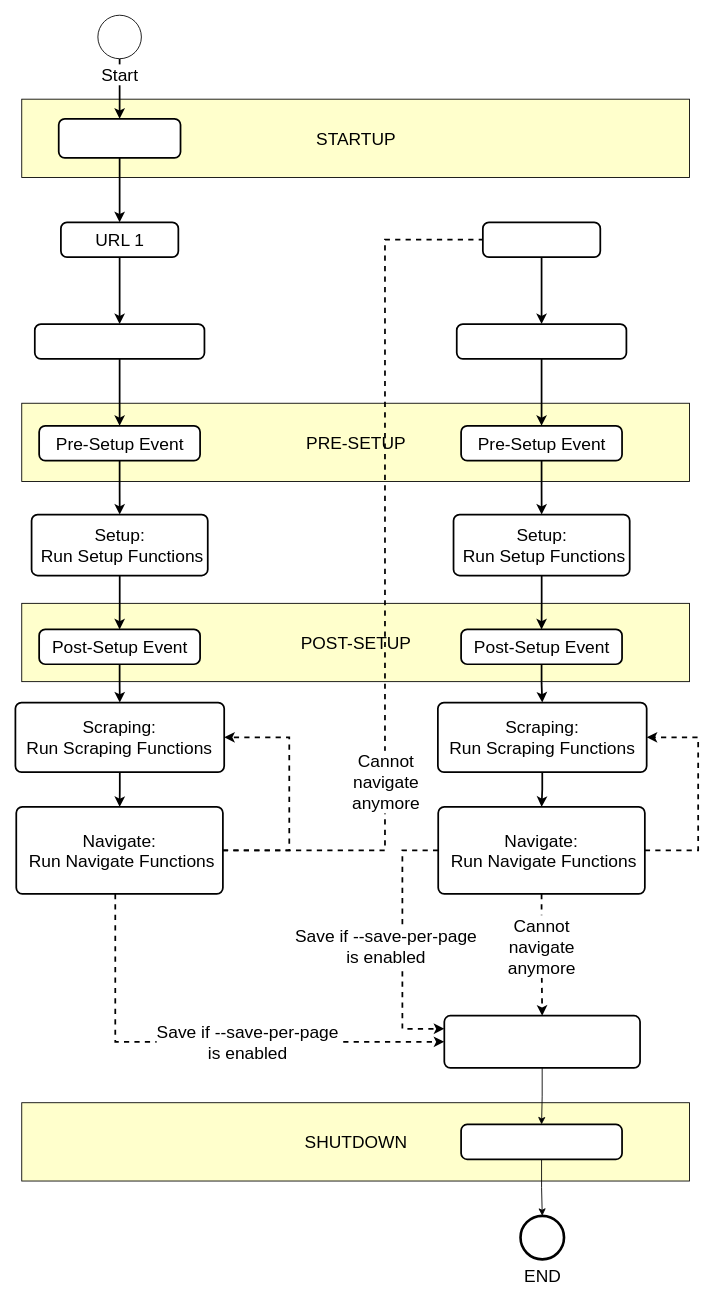
Some shapes in this 721 by 1302 pixel diagram are drawn without their labels. Each missing label, with the centre of its shape:
Get Page Content 1: point 119,341
Get Page Content N: point 541,341
Save: Run Save Functions: point 541,1041
Shutdown Event: point 541,1141
Startup Event: point 119,137
URL N: point 541,239
